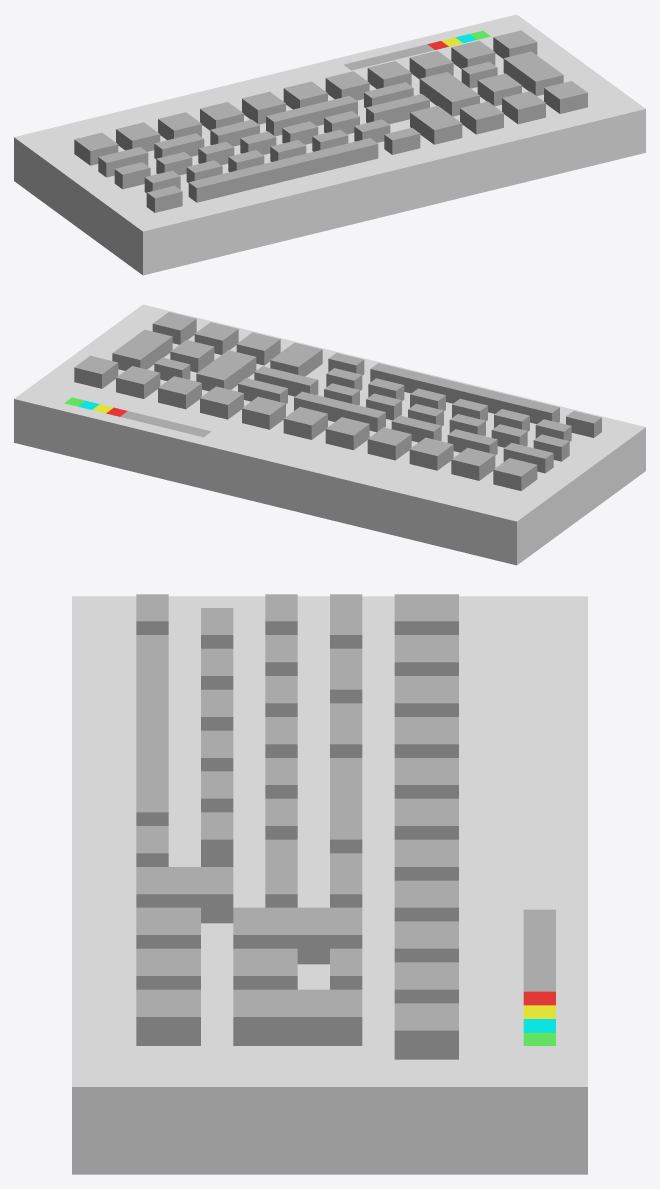
File: Voxel Universe Objects-71.obj
3 views of the same model, one above another, from view 1: azimuth 30°, elevation 25°; view 2: azimuth 150°, elevation 25°; view 3: azimuth 270°, elevation 25° (orthographic). The views are drawn at different scales.
Size of the model in its own units: 3.6 by 0.4 by 1.6.
1 material, 1 textured.
